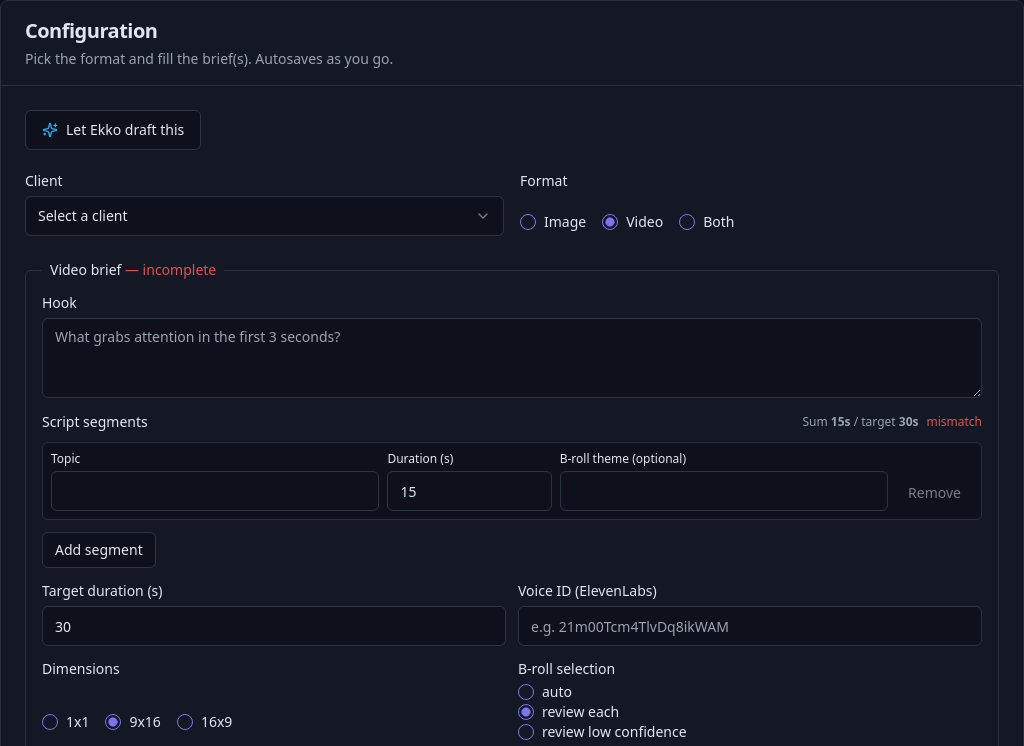
Test: StageConfiguration - video segments › Removes a segment when there are multiple
The width and height of the screenshot is (1024, 746).
What coordinates should you click on to do the following:
click the button "Add segment"
I would click on:
 (99, 550)
Its box is top-left (42, 532), bottom-right (156, 568).
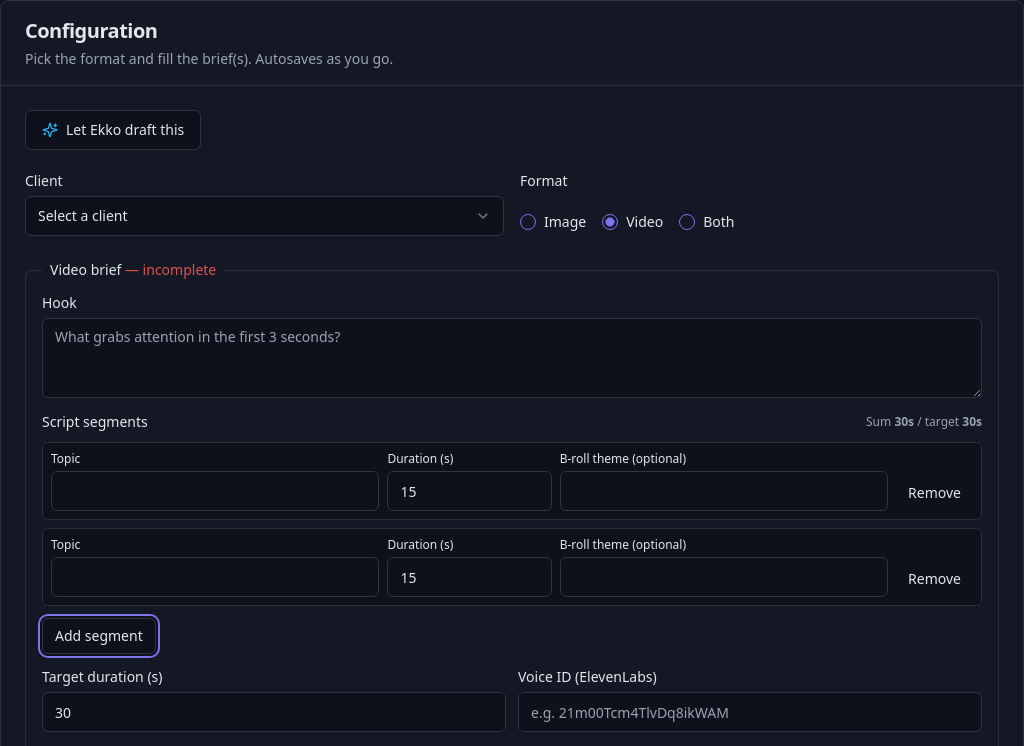
Expected: the number of fields labelled "Topic" is 2, top-left (51, 471), bottom-right (379, 511); top-left (51, 557), bottom-right (379, 597)
What coordinates should you click on to do the following:
click the 2nd button "Remove"
I would click on:
 (935, 579)
Its box is top-left (896, 561), bottom-right (973, 597).
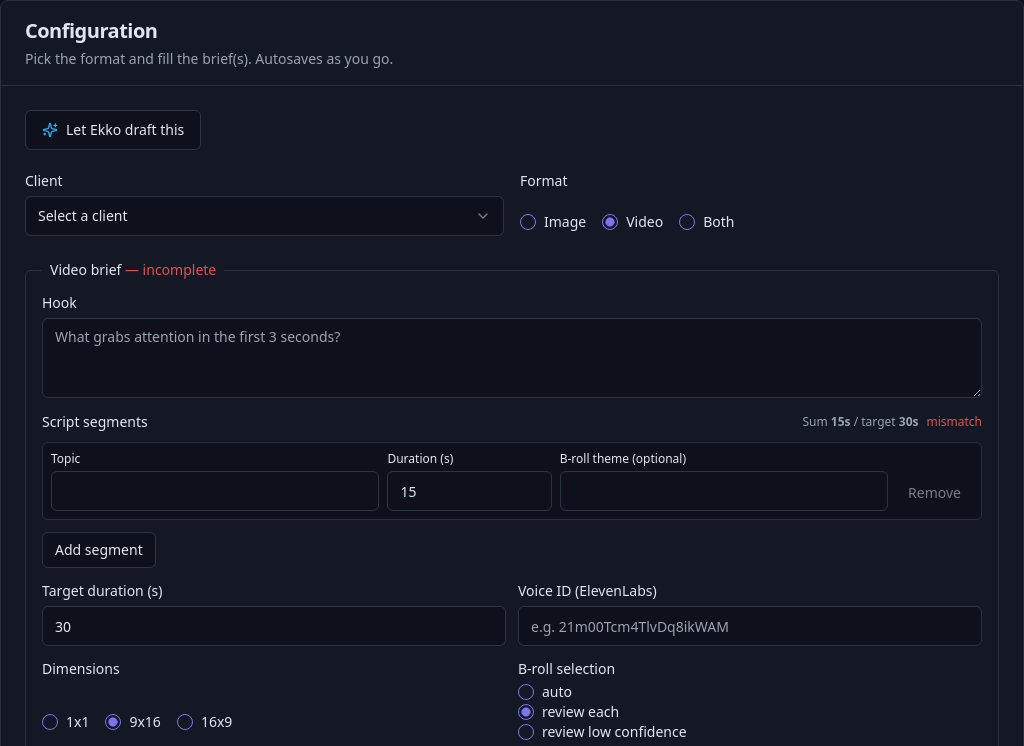
Expected: the number of fields labelled "Topic" is 1, top-left (51, 471), bottom-right (379, 511)
